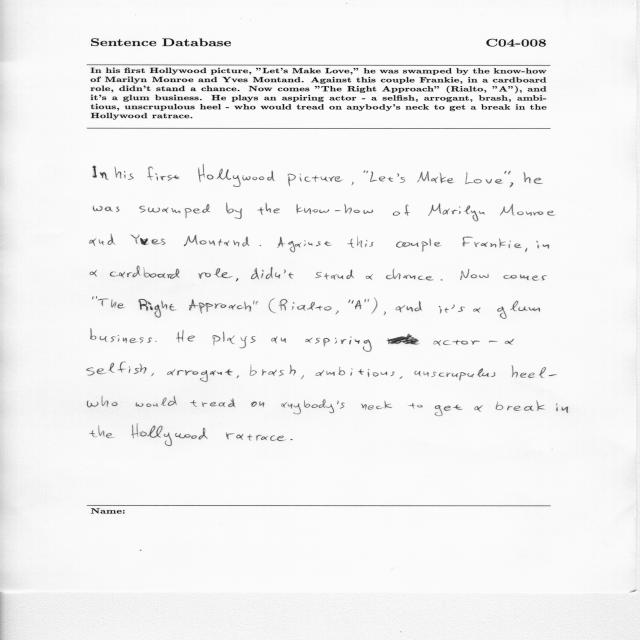word: (198, 164, 275, 187), (131, 424, 208, 446), (387, 334, 480, 346), (305, 336, 372, 352), (428, 204, 485, 222), (139, 204, 210, 218), (415, 369, 496, 381), (281, 399, 345, 414), (91, 329, 152, 344), (110, 266, 180, 279), (189, 300, 251, 314), (167, 369, 233, 382), (87, 362, 147, 376), (277, 237, 332, 252), (315, 367, 395, 377), (184, 235, 250, 247), (497, 301, 540, 319), (297, 204, 374, 214), (213, 332, 256, 349), (139, 299, 177, 318), (288, 174, 343, 186), (500, 204, 555, 216), (463, 237, 522, 248), (279, 299, 332, 311), (396, 239, 442, 252), (386, 269, 434, 281), (496, 400, 545, 411), (226, 433, 284, 442), (250, 365, 296, 376), (251, 267, 293, 279), (148, 166, 180, 181), (136, 396, 178, 407), (465, 172, 503, 184), (511, 365, 546, 378), (417, 172, 454, 184), (315, 269, 354, 280), (190, 399, 236, 408), (131, 234, 166, 245), (198, 268, 233, 279), (96, 296, 125, 309), (88, 396, 118, 408), (347, 236, 374, 248), (460, 269, 489, 280), (90, 234, 116, 246), (91, 426, 115, 439), (503, 274, 547, 281), (435, 405, 463, 416), (396, 301, 422, 312), (361, 401, 392, 410), (257, 203, 280, 215), (114, 167, 134, 180), (226, 203, 242, 219), (370, 171, 393, 182), (176, 330, 195, 343), (523, 172, 543, 184), (93, 165, 108, 180), (393, 205, 410, 216), (368, 297, 378, 314), (93, 206, 120, 212), (556, 403, 568, 413), (451, 305, 465, 313), (269, 298, 276, 313), (271, 337, 286, 344), (537, 241, 549, 249), (352, 300, 362, 309), (408, 403, 423, 409), (509, 171, 514, 188), (397, 173, 405, 183), (251, 402, 264, 408), (439, 306, 449, 313), (474, 405, 483, 412), (505, 339, 515, 345), (90, 270, 97, 277), (366, 274, 373, 280), (474, 308, 481, 313), (253, 301, 258, 305), (364, 170, 368, 174), (335, 311, 339, 315), (489, 341, 497, 343), (549, 374, 557, 376), (301, 375, 304, 379), (151, 373, 154, 376), (400, 376, 403, 379), (525, 248, 527, 252), (236, 278, 238, 282), (384, 312, 386, 316), (352, 182, 354, 185), (505, 171, 507, 174), (349, 300, 351, 303), (237, 375, 239, 378), (93, 297, 94, 300), (365, 299, 366, 302), (259, 245, 261, 246), (441, 280, 443, 281), (155, 341, 157, 342), (291, 439, 293, 440)
